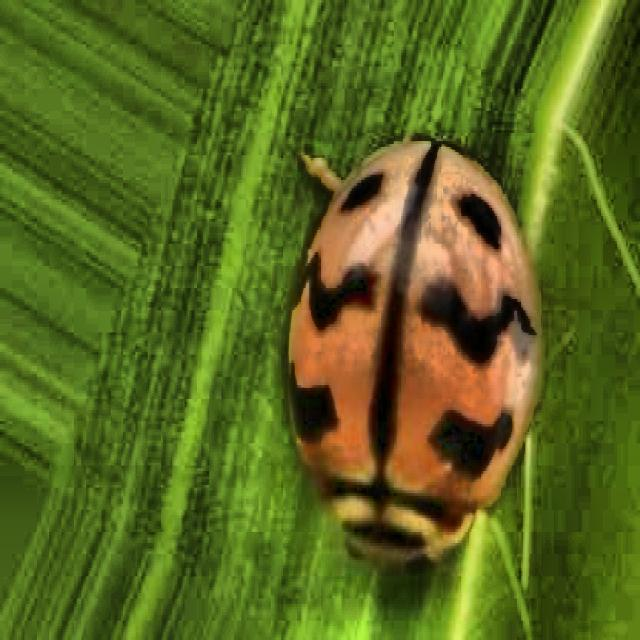Asian-Lady-beetle: (250, 68, 564, 635)
